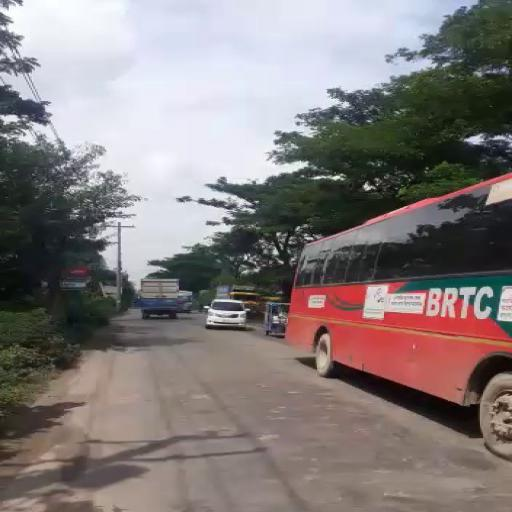auto rickshaw: (263, 301, 290, 337)
bus: (291, 161, 512, 460), (178, 290, 193, 311)
minivan: (205, 298, 248, 328)
pickup: (140, 277, 182, 316)
truck: (216, 284, 260, 306)
